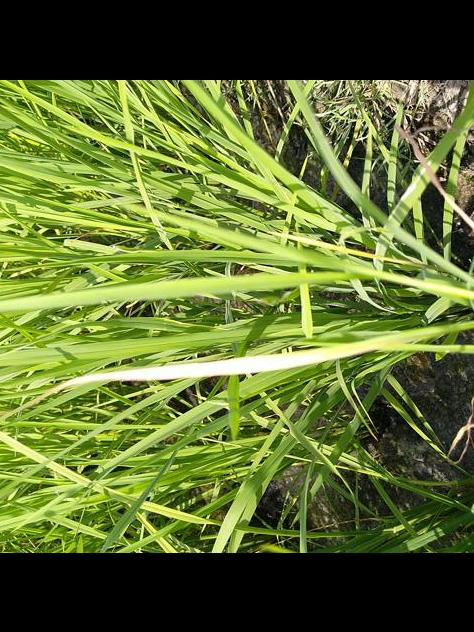Leaf Blight: (54, 336, 396, 390)
